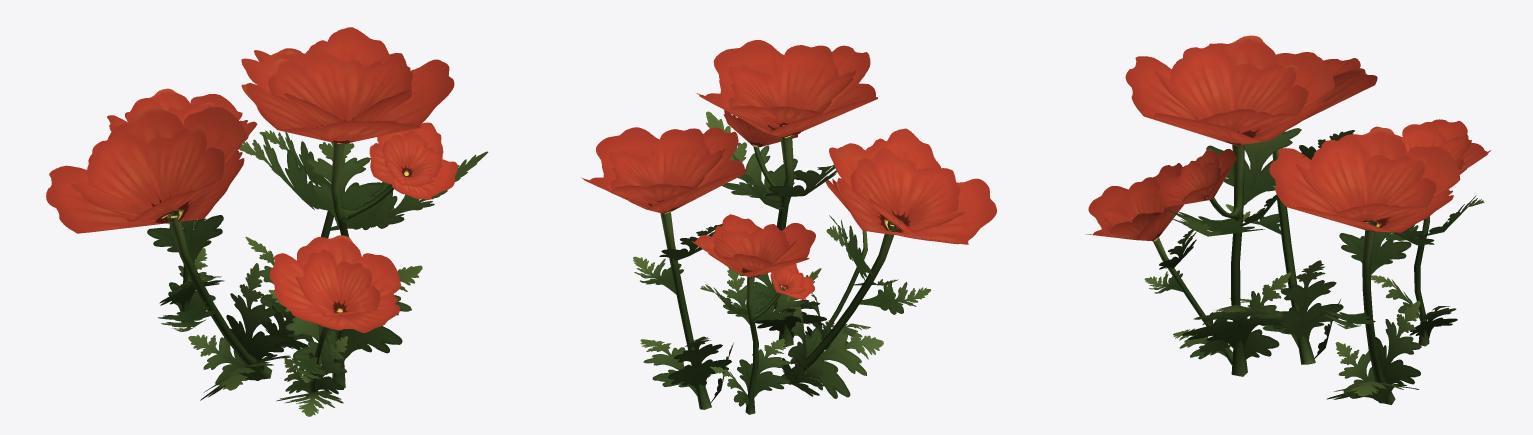
Rendered from Klaproos4.fbx.
The picture shows the model from 3 angles, left to right: view 1: azimuth 30°, elevation 25°; view 2: azimuth 150°, elevation 25°; view 3: azimuth 270°, elevation 25°; orthographic projection. The views are drawn at different scales.
Visible parts, largest first — view 1: Plane.022; view 2: Plane.022; view 3: Plane.022.
Boxes of the visible parts, x1=… form: Plane.022: x1=46, y1=27, x2=488, y2=416; Plane.022: x1=581, y1=40, x2=996, y2=414; Plane.022: x1=1086, y1=35, x2=1490, y2=404.
Bounding box in the file's own units: 125 × 86.1 × 108.
